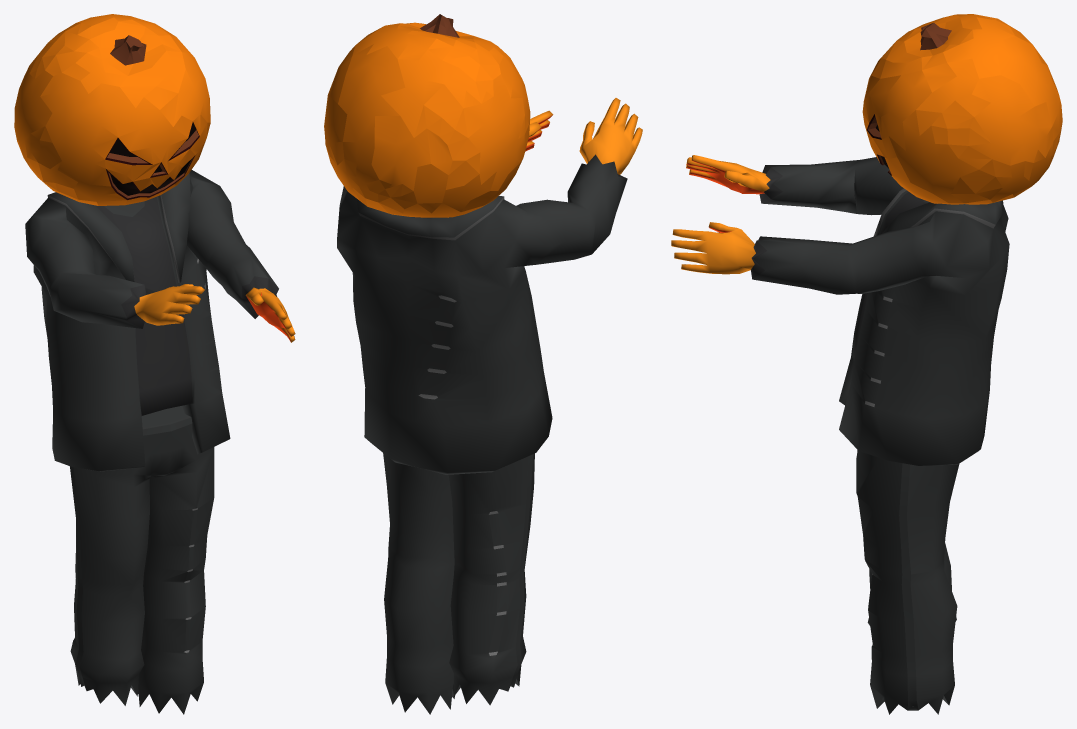
The model's file is creeper.glb.
3 views of the same model, side by side, from view 1: azimuth 30°, elevation 25°; view 2: azimuth 150°, elevation 25°; view 3: azimuth 270°, elevation 25° (orthographic). The views are drawn at different scales.
Visible parts, largest first — view 1: M_uBody_Frankie, M_lBody_Frankie.001, Helmet_Pumpkin; view 2: M_uBody_Frankie, Helmet_Pumpkin, M_lBody_Frankie.001; view 3: M_uBody_Frankie, Helmet_Pumpkin, M_lBody_Frankie.001.
Part boxes in pixels (x1=…): M_uBody_Frankie: x1=25, y1=170, x2=295, y2=471; M_lBody_Frankie.001: x1=70, y1=406, x2=214, y2=714; Helmet_Pumpkin: x1=14, y1=14, x2=210, y2=205; M_uBody_Frankie: x1=337, y1=98, x2=642, y2=474; Helmet_Pumpkin: x1=324, y1=14, x2=530, y2=217; M_lBody_Frankie.001: x1=383, y1=453, x2=534, y2=714; M_uBody_Frankie: x1=671, y1=155, x2=1009, y2=465; Helmet_Pumpkin: x1=862, y1=14, x2=1062, y2=204; M_lBody_Frankie.001: x1=856, y1=450, x2=959, y2=714.
Size of the model in its own units: 0.7133 by 2.21 by 1.17.
Materials: 3 (3 with a texture image).
